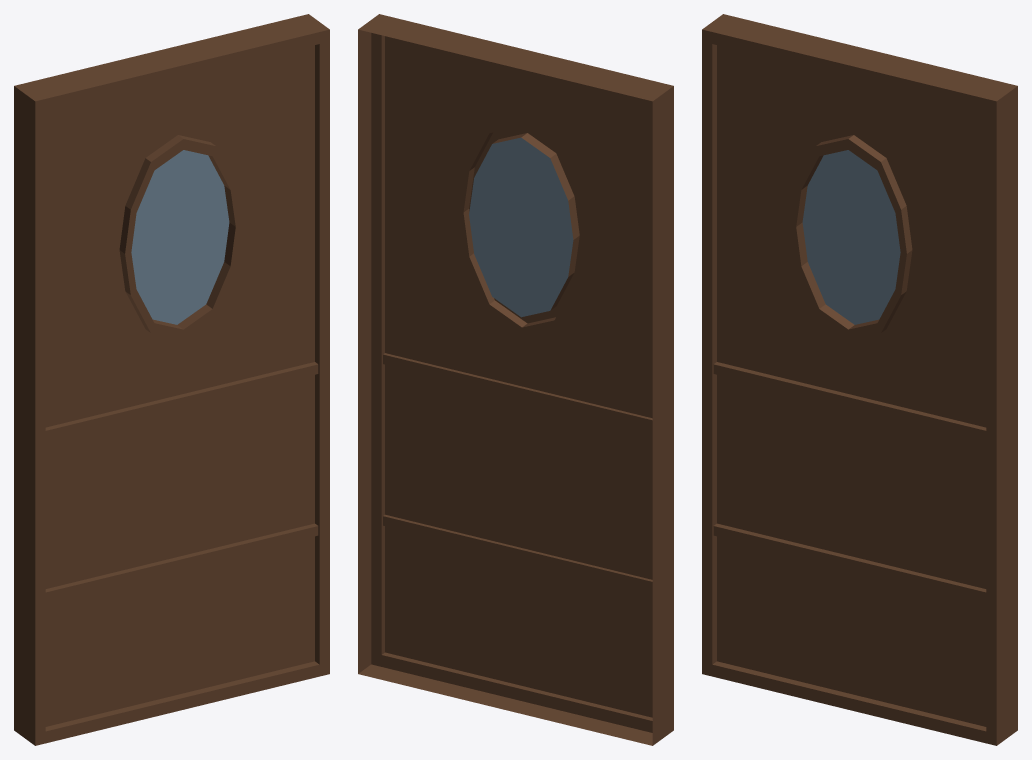
Rendered from Door_Window.glb.
3 renders of one model, left to right at view 1: azimuth 30°, elevation 25°; view 2: azimuth 150°, elevation 25°; view 3: azimuth 330°, elevation 25°, orthographic.
Visible parts, largest first — view 1: Door_Window; view 2: Door_Window; view 3: Door_Window.
Part boxes in pixels (box(x1,y1,x2,y2)): Door_Window: box(14, 14, 329, 745); Door_Window: box(358, 14, 673, 745); Door_Window: box(702, 14, 1017, 745).
Size of the model in its own units: 0.4386 by 0.9169 by 0.0572.
1 material, 1 textured.
